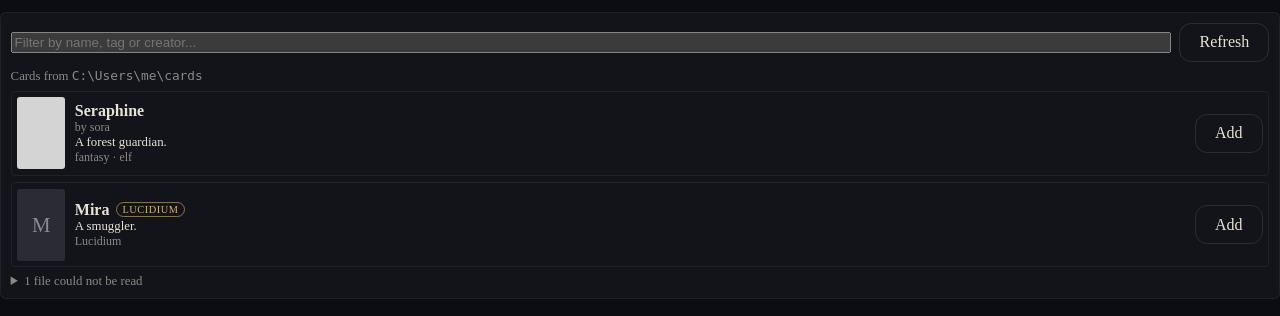
Scenario: CardLibrary › filters by name, tag and creator
The width and height of the screenshot is (1280, 316).
In the search field with test id "card-library-filter": (591, 42) [11,32,1171,53], type "ELF"
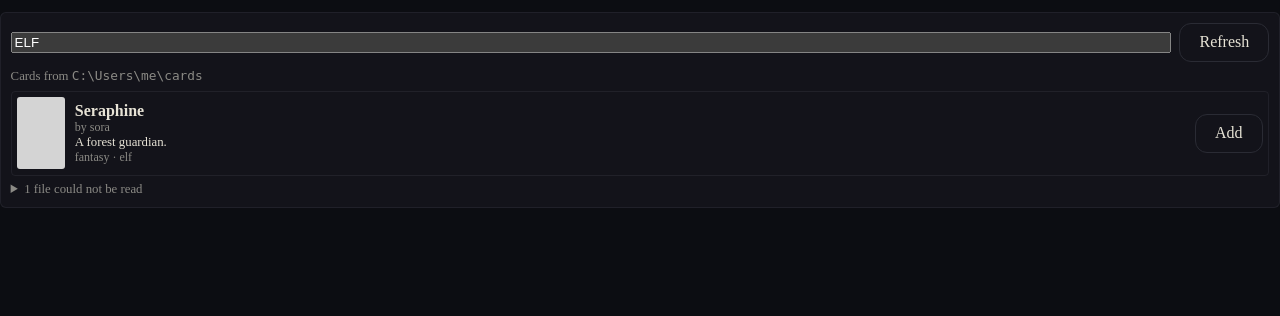
Expected: the list item with test id "card-library-card-Seraphine.png" is shown, [11,91,1269,176]
Replace the text in the search field with test id "card-library-filter" with "nobody": (591, 42) [11,32,1171,53]
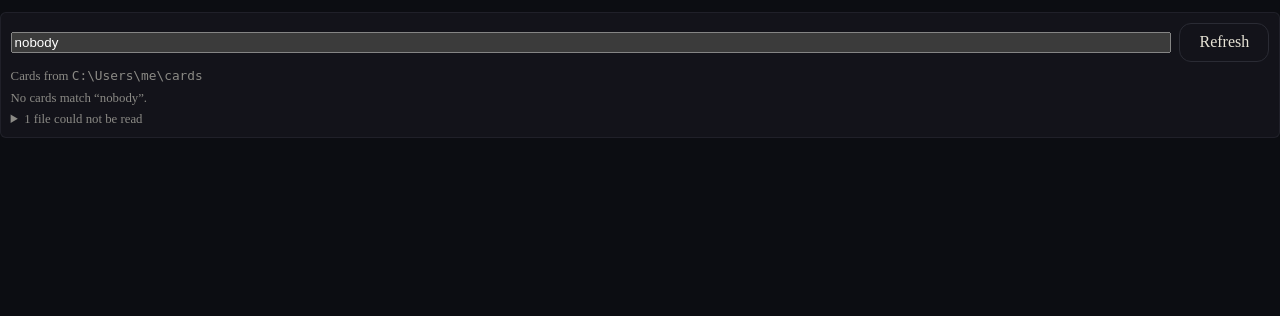
Result: the text "No cards match “nobody”." is shown at [11,91,147,105]
